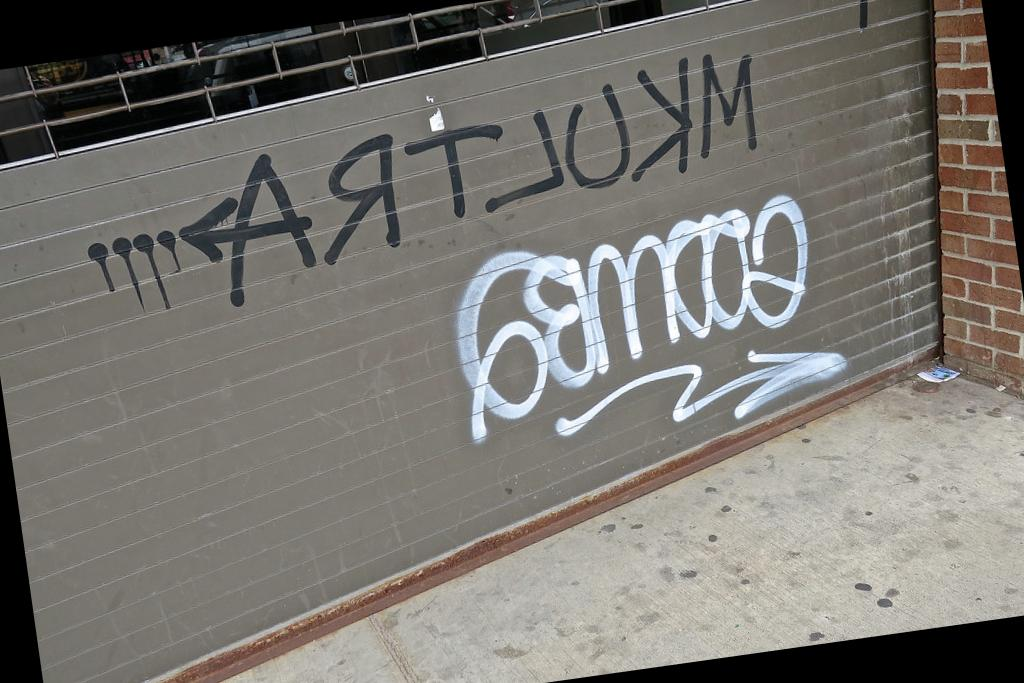graffiti: (457, 196, 808, 441), (555, 351, 845, 434), (178, 153, 317, 305), (325, 133, 400, 263), (404, 122, 504, 216), (485, 110, 564, 211), (635, 57, 692, 179), (565, 84, 630, 187), (703, 54, 757, 148), (112, 230, 178, 306), (88, 241, 116, 290), (859, 0, 868, 30)
trash: (917, 362, 959, 383)
